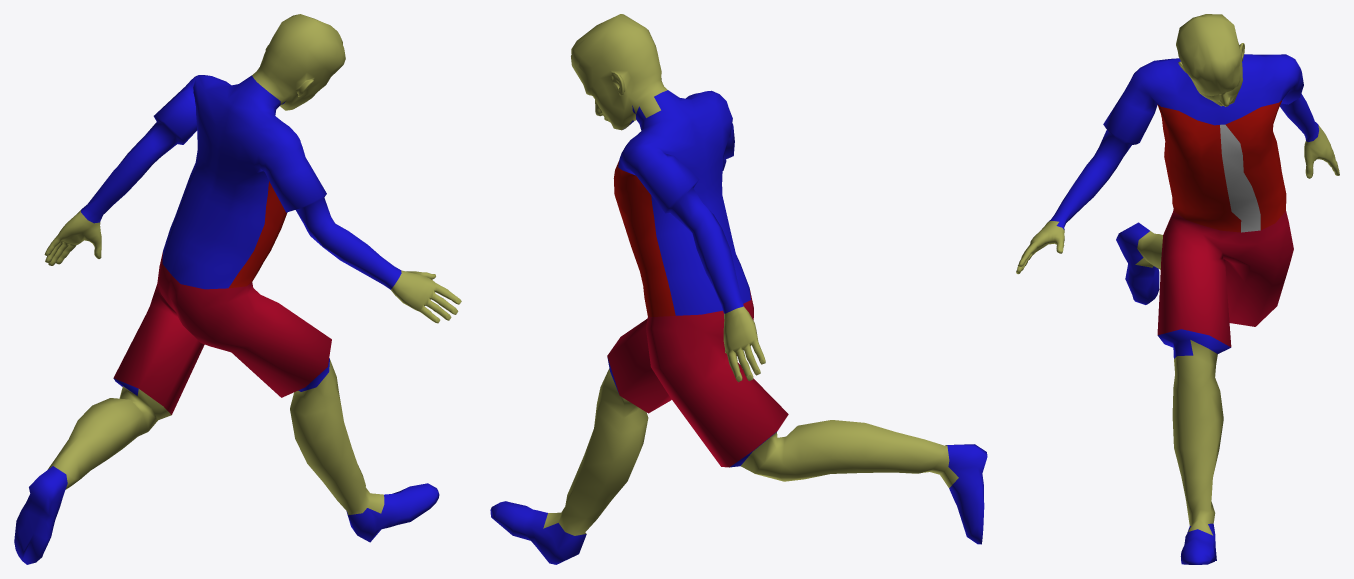
The model's file is player_000030.obj.
3 renders of one model, left to right at view 1: azimuth 30°, elevation 25°; view 2: azimuth 150°, elevation 25°; view 3: azimuth 270°, elevation 25°, orthographic. The views are drawn at different scales.
Parts seen in each view (by area): view 1: soccerplayer_mesh; view 2: soccerplayer_mesh; view 3: soccerplayer_mesh.
Boxes of the visible parts, left/top/right/bottom form: soccerplayer_mesh: left=14, top=14, right=461, bottom=564; soccerplayer_mesh: left=490, top=14, right=987, bottom=564; soccerplayer_mesh: left=1016, top=14, right=1339, bottom=564.
Bounding box in the file's own units: 4.15 × 4.73 × 2.68.
